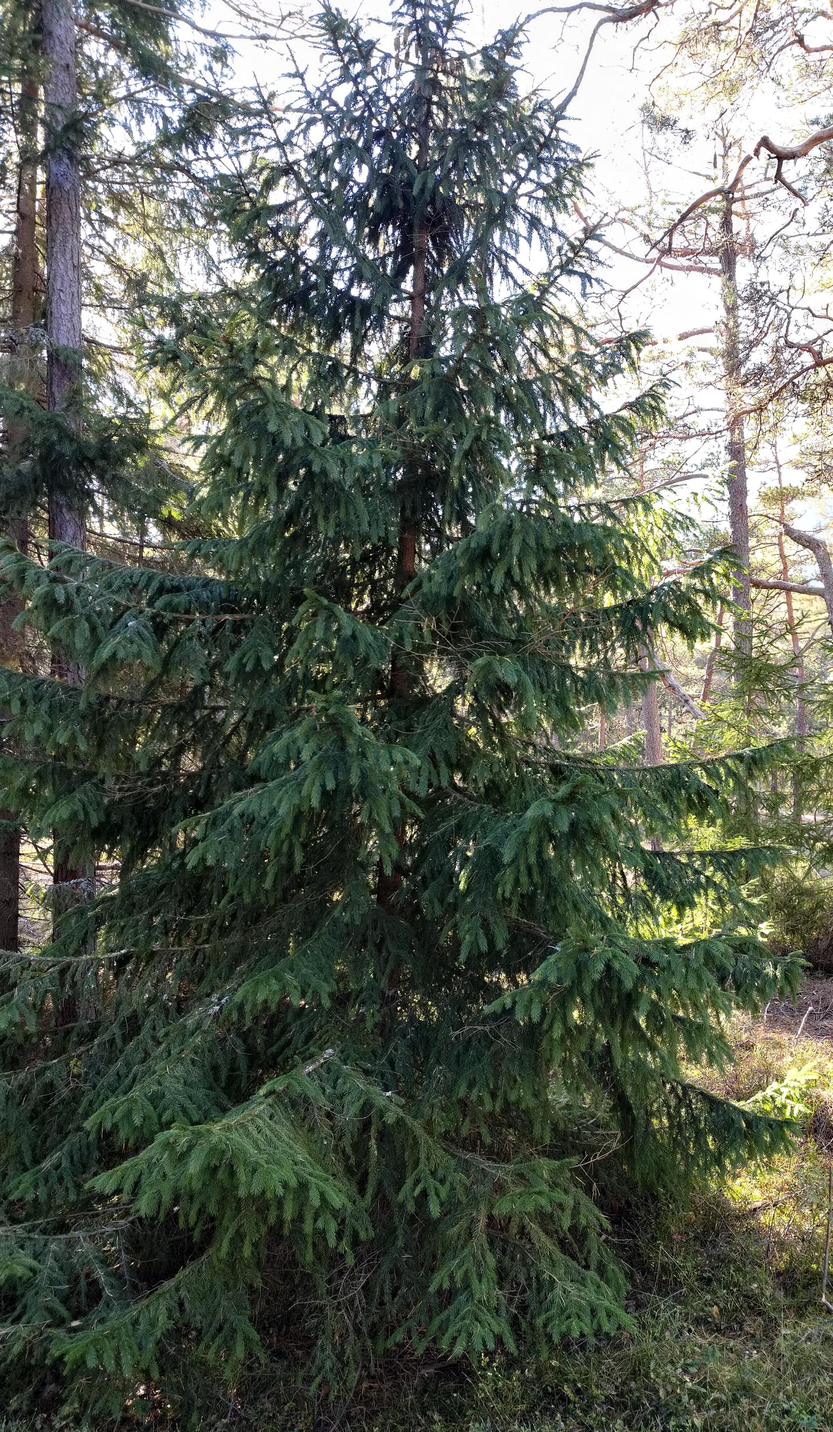Spruce: (57, 42, 715, 1402)
